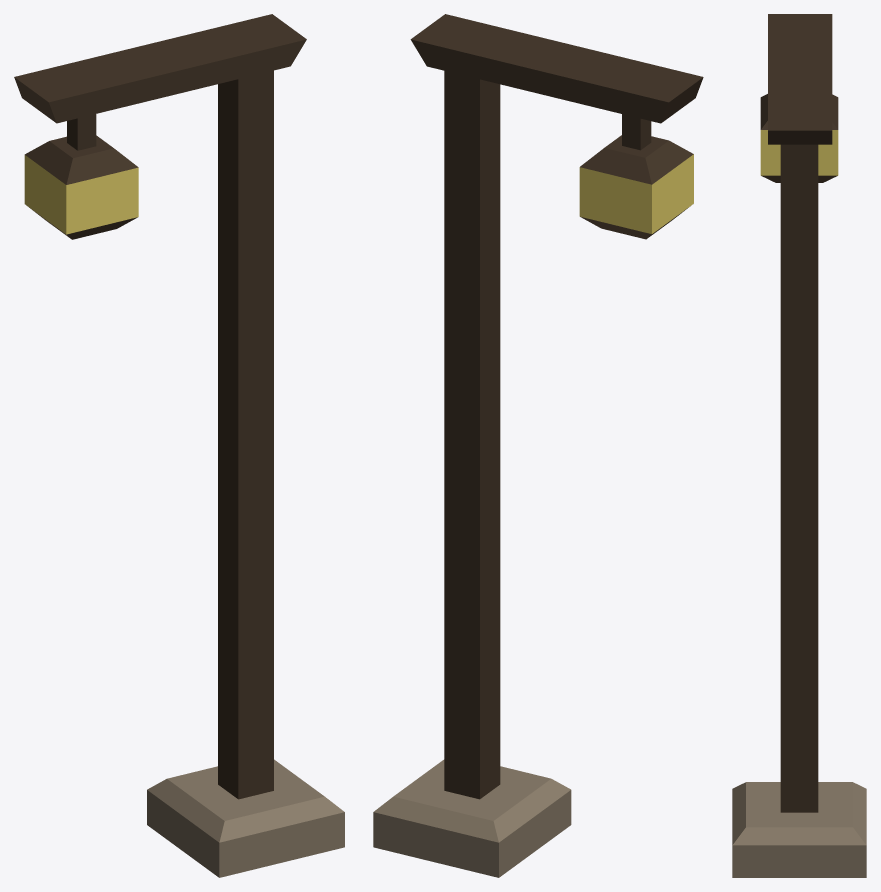
File: StreetLight.fbx
The picture shows the model from 3 angles, left to right: view 1: azimuth 30°, elevation 25°; view 2: azimuth 150°, elevation 25°; view 3: azimuth 270°, elevation 25°; orthographic projection. The views are drawn at different scales.
Visible parts, largest first — view 1: StreetLight; view 2: StreetLight; view 3: StreetLight.
Part boxes in pixels (left/top/right/bottom): StreetLight: left=14, top=14, right=344, bottom=877; StreetLight: left=373, top=14, right=703, bottom=877; StreetLight: left=732, top=14, right=866, bottom=877.
Size of the model in its own units: 1.15 by 3.16 by 0.5201.
